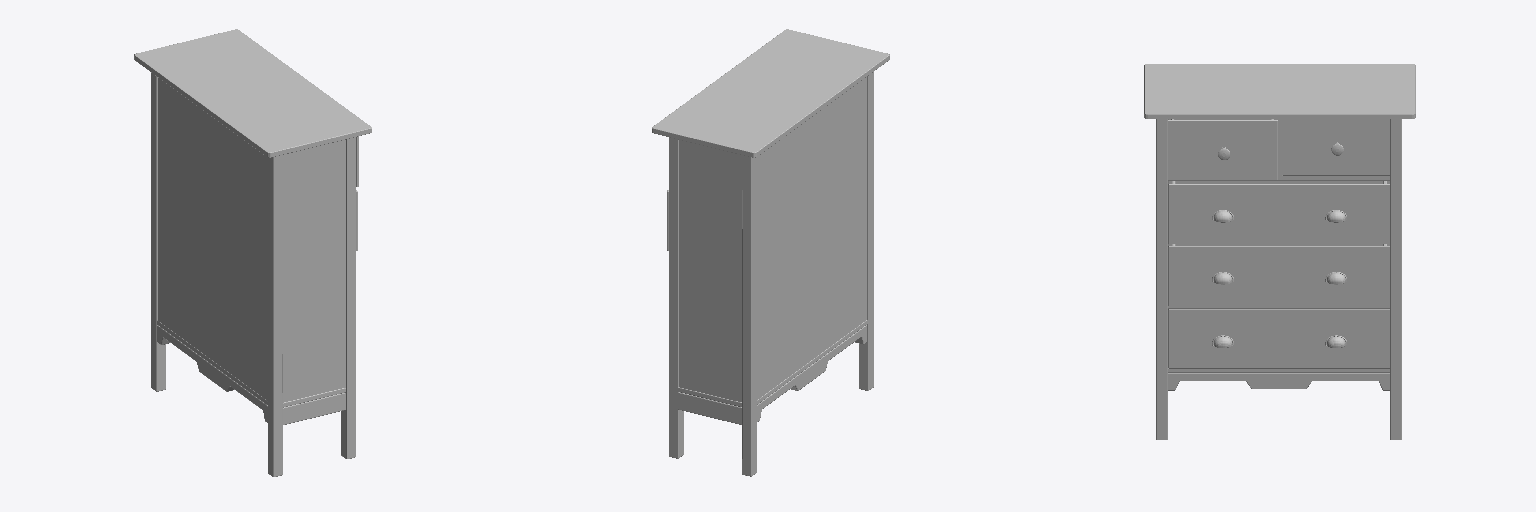
Rendered from drawer.obj.
The picture shows the model from 3 angles: view 1: azimuth 30°, elevation 25°; view 2: azimuth 150°, elevation 25°; view 3: azimuth 270°, elevation 25°; orthographic projection.
Parts seen in each view (by area): view 1: uploads_files_[number redacted]_DRAWER_(1); view 2: uploads_files_[number redacted]_DRAWER_(1); view 3: uploads_files_[number redacted]_DRAWER_(1).
Boxes of the visible parts, <box> form: uploads_files_[number redacted]_DRAWER_(1): <box>134,29,371,476</box>; uploads_files_[number redacted]_DRAWER_(1): <box>652,29,889,476</box>; uploads_files_[number redacted]_DRAWER_(1): <box>1144,64,1415,439</box>.
Size of the model in its own units: 0.6741 by 1.94 by 1.43.